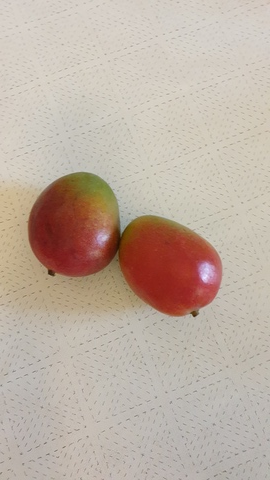Mango: (120, 215, 222, 319)
